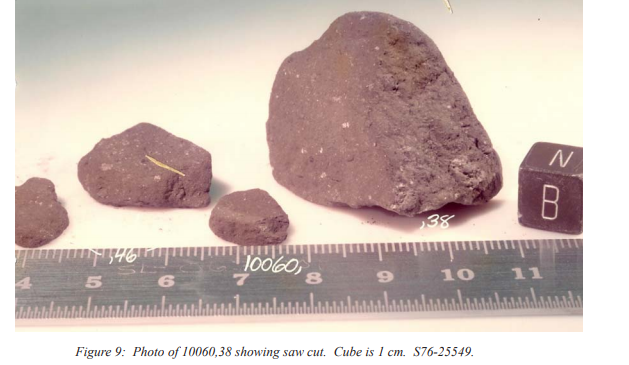Breccia: (253, 15, 492, 219), (14, 121, 315, 279)
